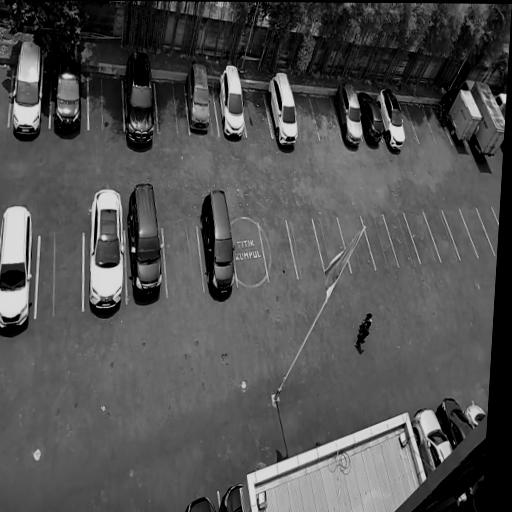Car: (80, 181, 133, 327), (120, 177, 171, 320), (0, 196, 40, 337), (197, 182, 239, 304), (119, 40, 161, 159), (47, 34, 89, 151), (8, 37, 50, 149), (264, 65, 303, 155), (409, 404, 454, 477), (439, 79, 485, 148), (217, 59, 249, 145), (434, 395, 477, 450), (332, 81, 367, 148), (185, 60, 215, 136), (375, 87, 409, 152), (357, 88, 387, 149), (215, 487, 246, 512), (462, 398, 487, 428), (181, 496, 217, 512)
Space Available: (36, 232, 84, 320), (162, 225, 202, 296), (287, 218, 326, 279), (231, 223, 268, 286), (260, 220, 298, 280), (89, 70, 126, 130), (361, 215, 399, 270), (383, 212, 421, 267), (313, 218, 351, 271), (154, 79, 189, 134), (337, 219, 373, 272), (442, 208, 478, 261), (405, 212, 441, 264), (424, 210, 460, 262), (460, 208, 494, 260), (242, 85, 272, 137), (310, 90, 341, 139), (406, 101, 435, 144), (294, 90, 319, 139), (476, 207, 499, 256), (0, 61, 13, 127), (399, 102, 419, 144)
